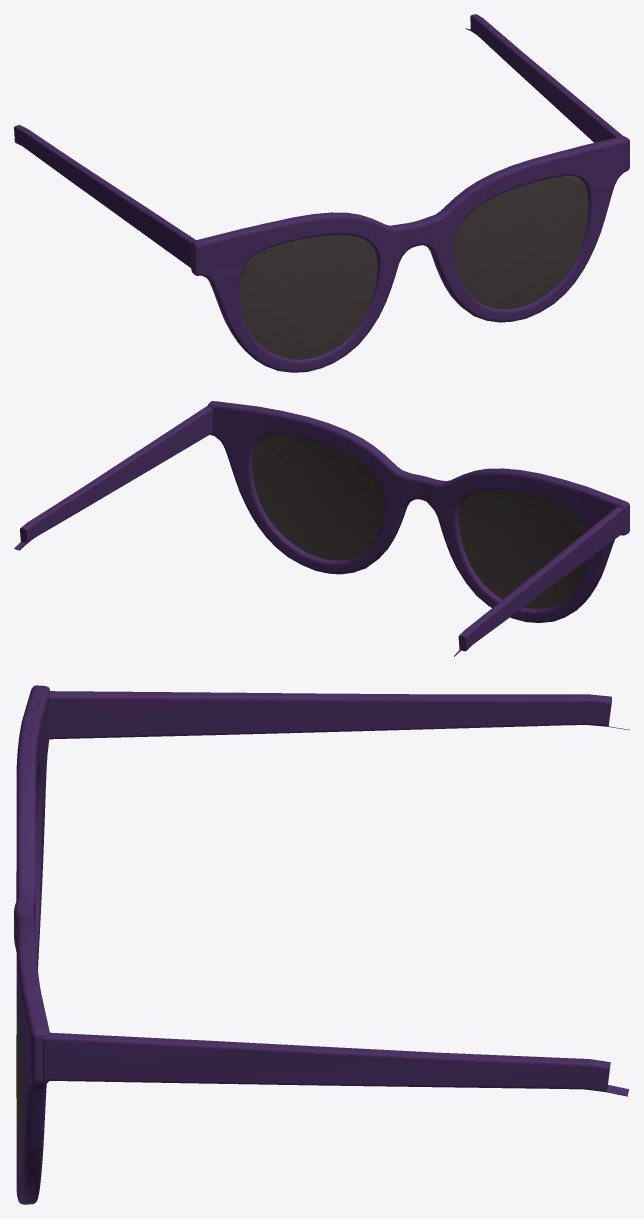
The model's file is havana-sunglasses.glb.
The picture shows the model from 3 angles, top to bottom: view 1: azimuth 30°, elevation 25°; view 2: azimuth 150°, elevation 25°; view 3: azimuth 270°, elevation 25°; orthographic projection. The views are drawn at different scales.
Size of the model in its own units: 2 by 0.6395 by 1.4.
2 materials, 2 textured.
